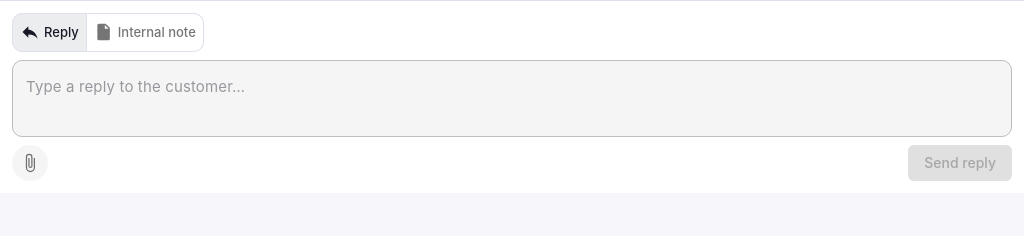
MessageComposer › switches to the note mode with its own label, warning and submit text
Step 1. Click the button "Internal note" → (145, 32), box [86,13,204,52]
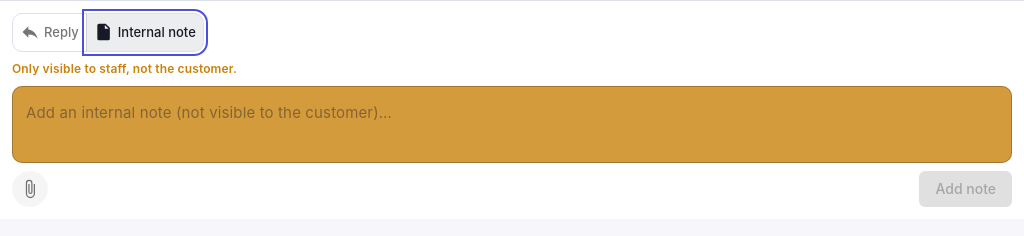
Now the form named "Add an internal note" is shown
Now the dropdown labelled "internal note" is shown, box [26,102,998,146]
Now the text "Only visible to staff, not the customer." is shown, box [12,61,237,76]
